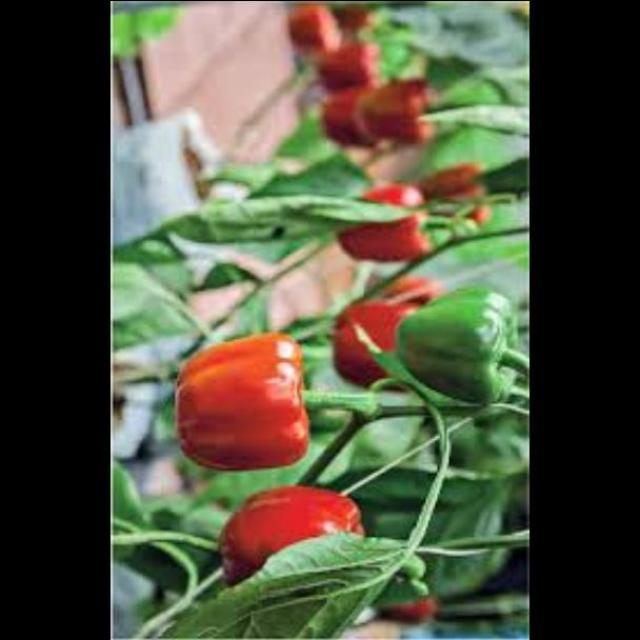Bell Pepper: (295, 7, 448, 151), (164, 339, 316, 472), (202, 480, 370, 587), (338, 296, 435, 411), (332, 178, 442, 272)
